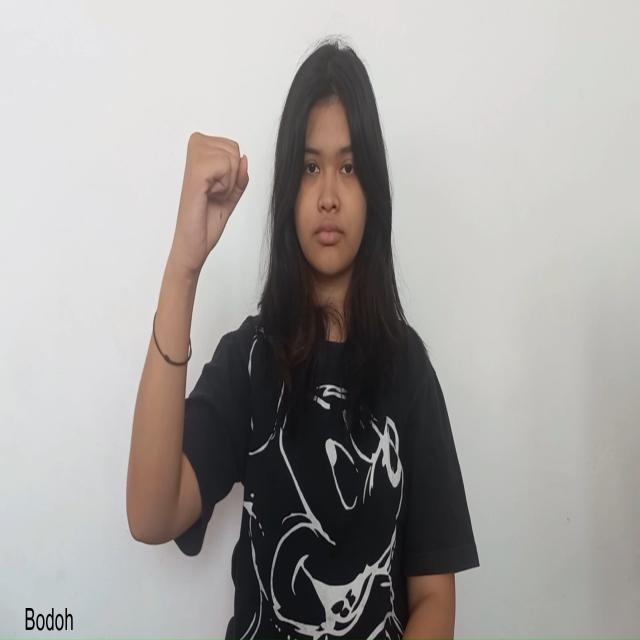Bodoh -BISINDO-: (172, 126, 252, 281)
